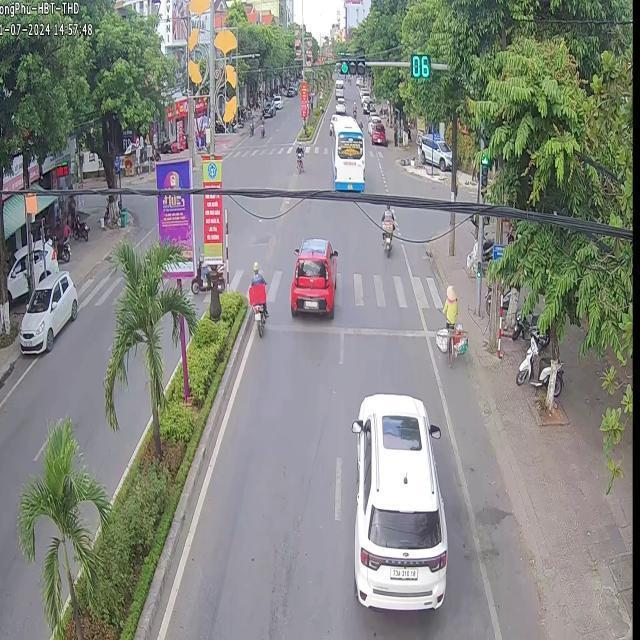car: (350, 391, 446, 609), (289, 236, 336, 318), (327, 110, 366, 199)
green_light: (338, 54, 364, 74), (479, 154, 488, 185)
motobike: (247, 260, 267, 334)
stop_line: (264, 323, 452, 337)
